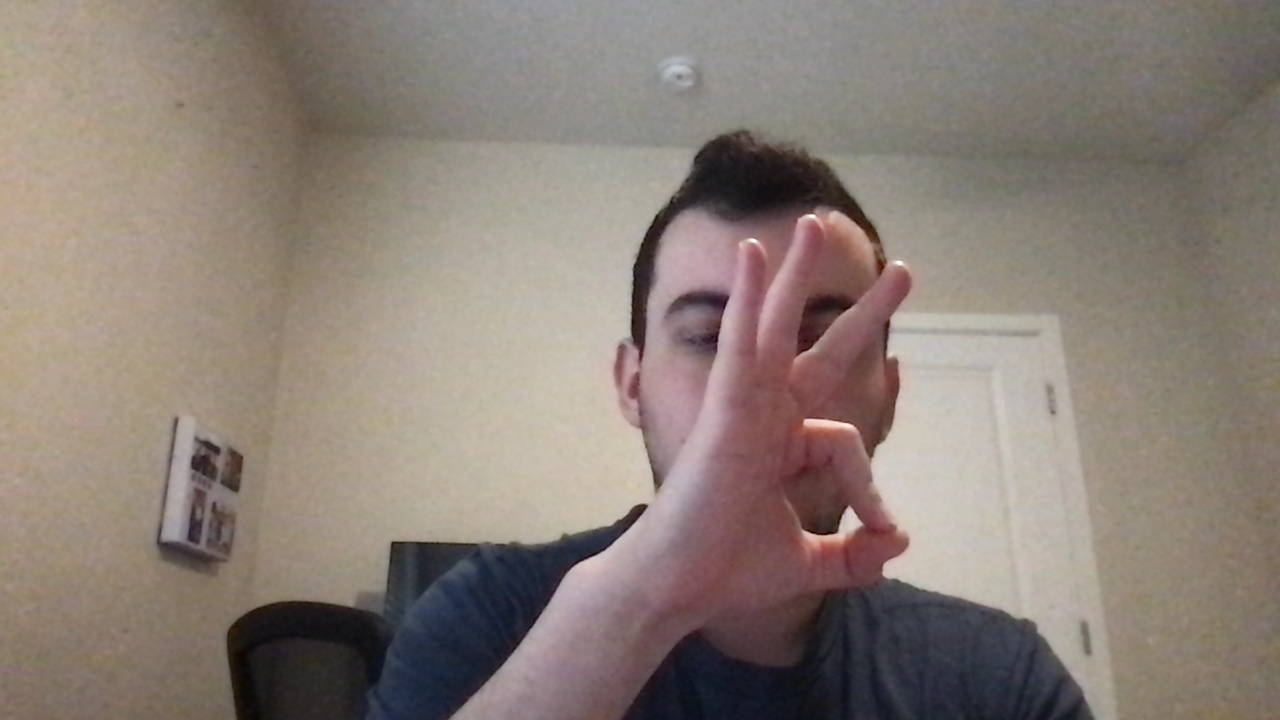f: (690, 205, 937, 631)
